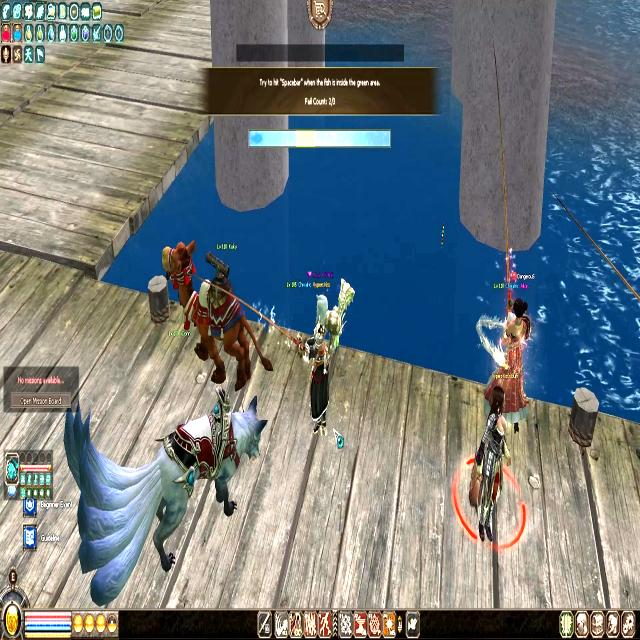fishes: (250, 132, 263, 144)
